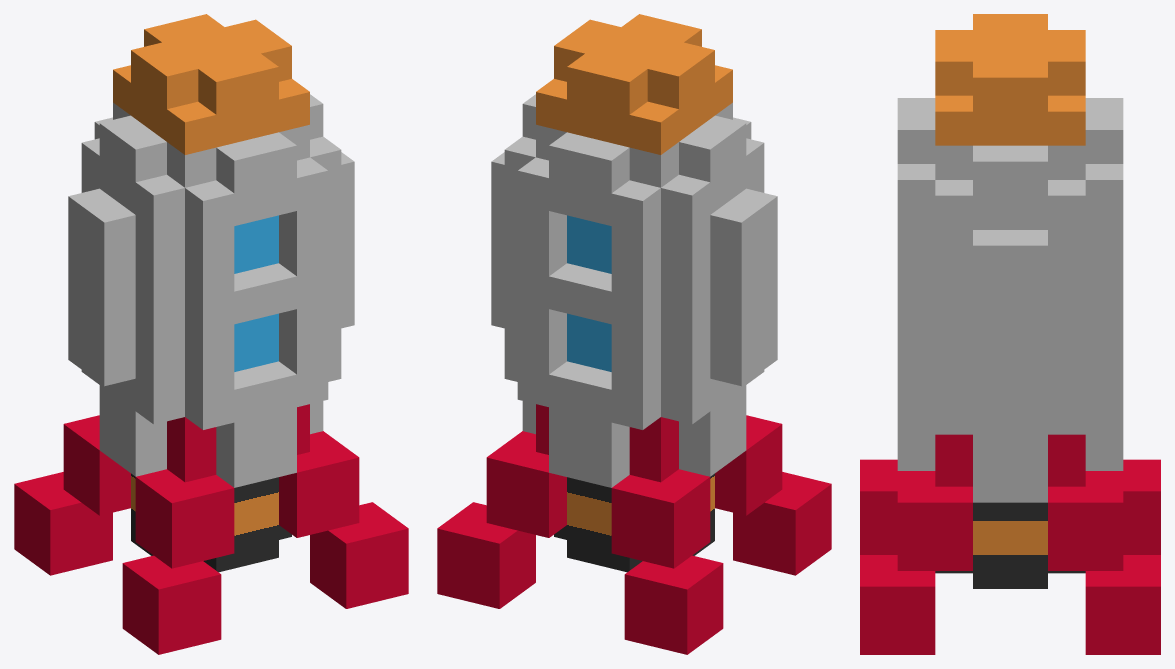
The model's file is rocket.fbx.
3 renders of one model, left to right at view 1: azimuth 30°, elevation 25°; view 2: azimuth 150°, elevation 25°; view 3: azimuth 270°, elevation 25°, orthographic. The views are drawn at different scales.
Parts seen in each view (by area): view 1: rocket2; view 2: rocket2; view 3: rocket2.
Boxes of the visible parts, x1=… form: rocket2: x1=14, y1=14, x2=408, y2=654; rocket2: x1=437, y1=14, x2=831, y2=654; rocket2: x1=860, y1=14, x2=1160, y2=654.
Size of the model in its own units: 8 by 16 by 8.
